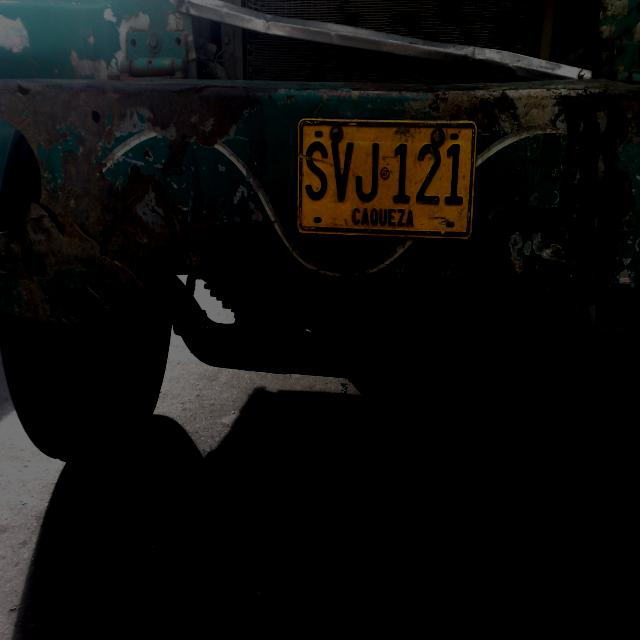placa: (294, 110, 480, 246)
